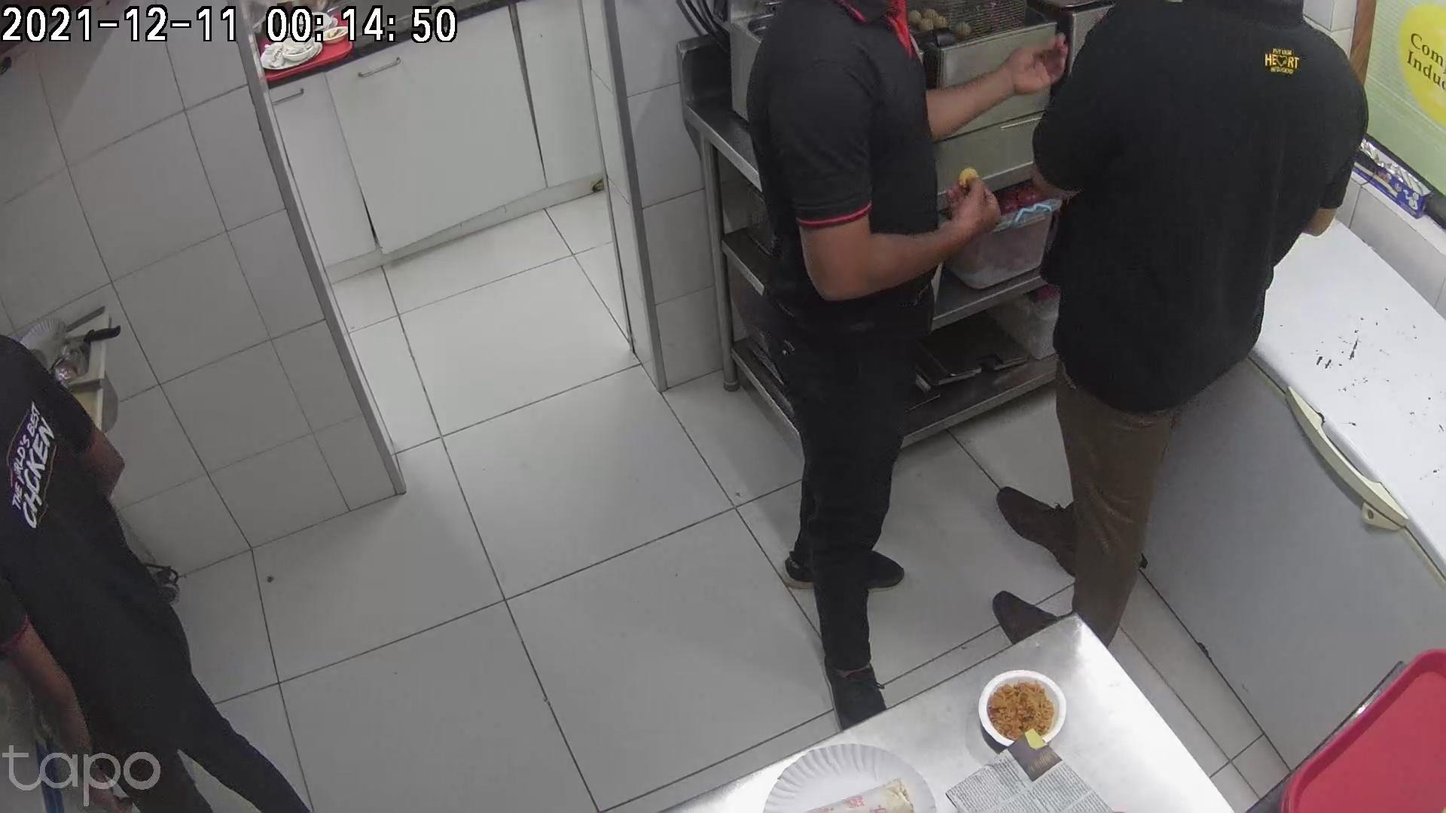no_gloves: (571, 241, 611, 361)
